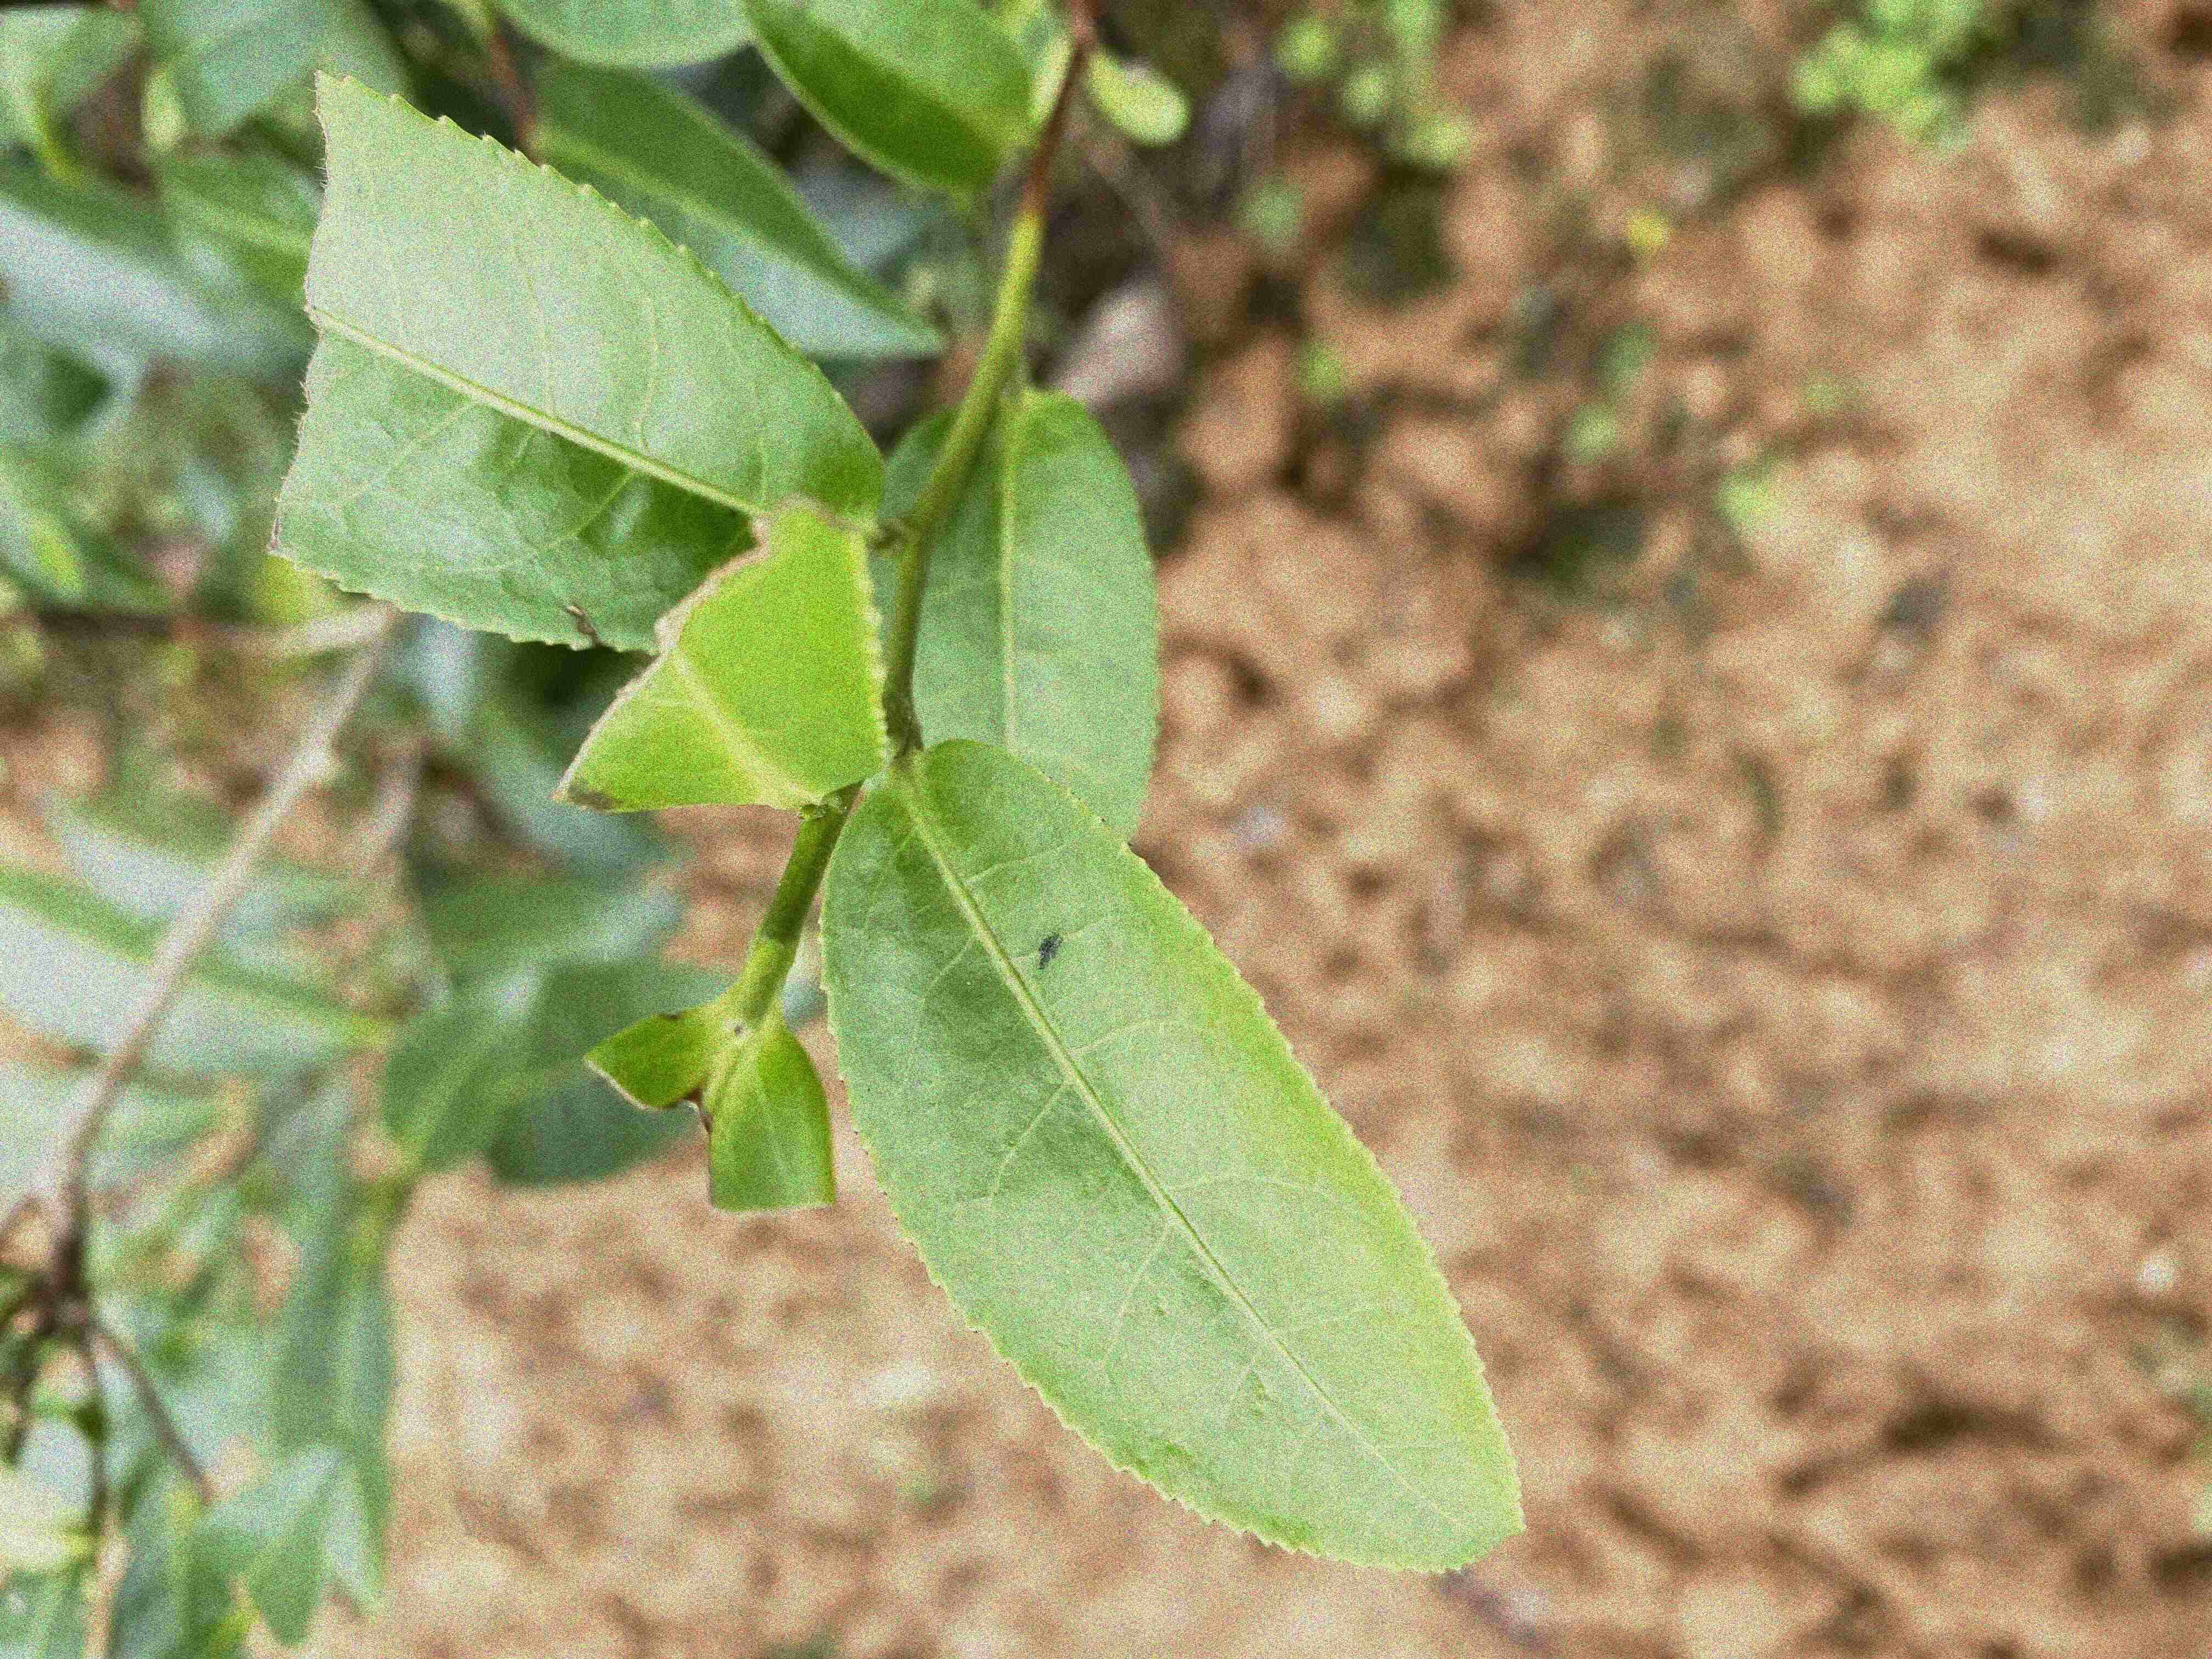chihuo_high: (266, 64, 890, 657), (549, 491, 892, 810), (582, 990, 836, 1213)
healthy: (820, 737, 1524, 1575)
